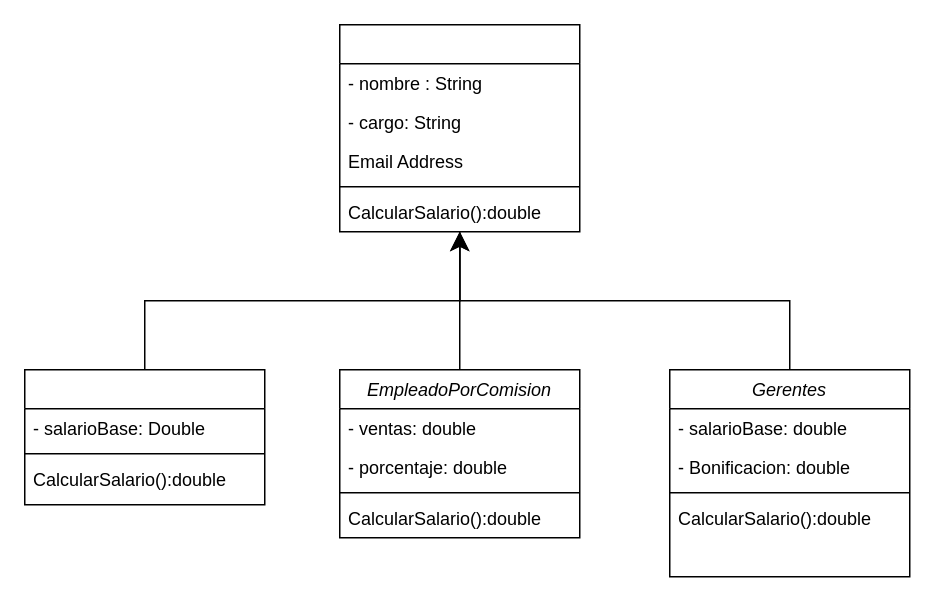
The diagram is 935 pixels wide and 602 high, and some of its shapes have lost their labels. The shapes that lost their labels are listed below. From the top down, each one's box as (x1, y1, x2, y2) in pixels, then its label:
(338, 23, 580, 232): Empleado
(23, 368, 265, 505): EmpleadoSalarioFijo
